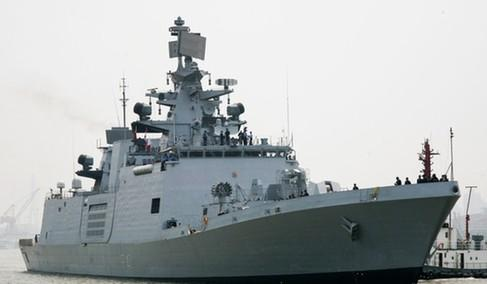warship: (14, 16, 464, 282)
